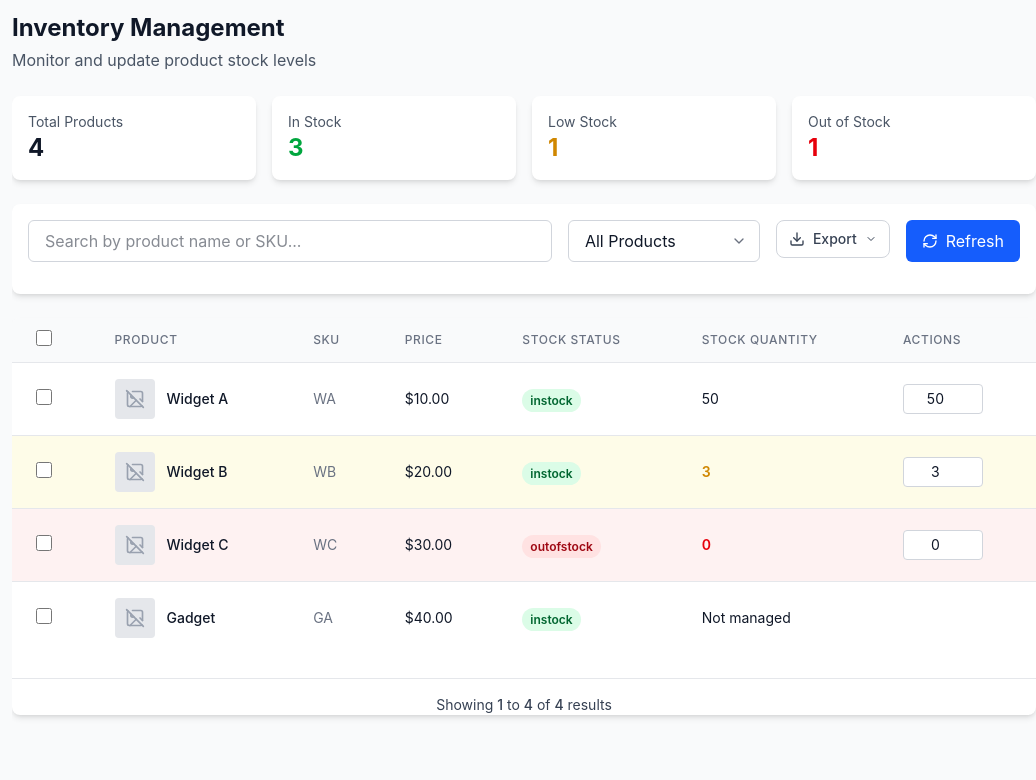
Test: InventoryPage › stock filter › filters by "in stock"
This screenshot has width=1036, height=780.
Step 1. Select "In Stock" in the dropdown showing "All Products" → (664, 241), box [568,220,760,262]
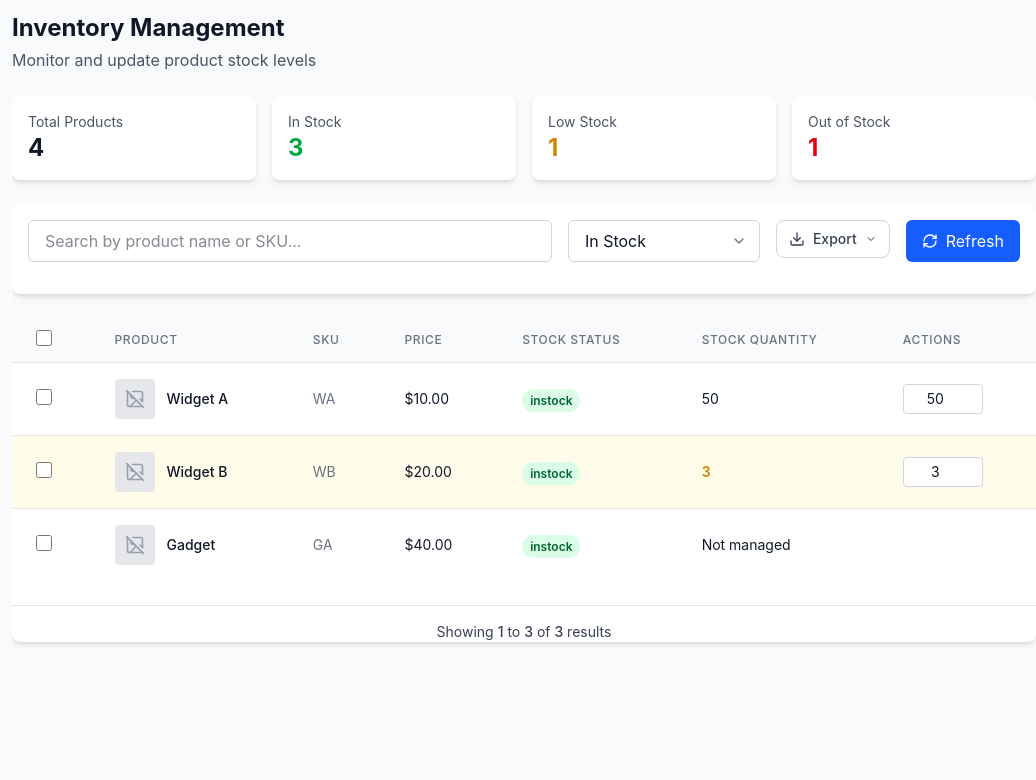
Expected: the text "Widget A" is shown, [166,389,228,409]
Expected: the text "Widget C" is gone
